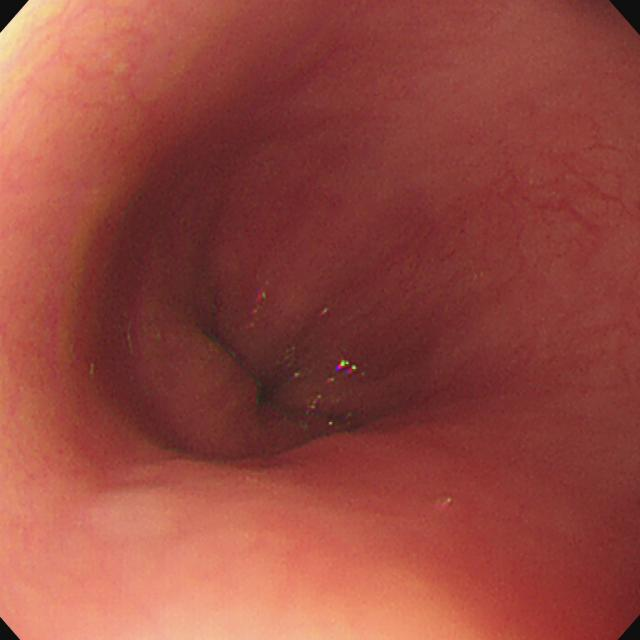E: (203, 311, 296, 422)
U: (335, 359, 358, 376)
